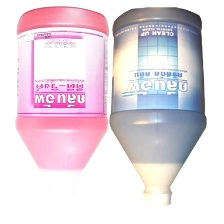cleaning_solution: (12, 3, 113, 211), (108, 4, 208, 210)
